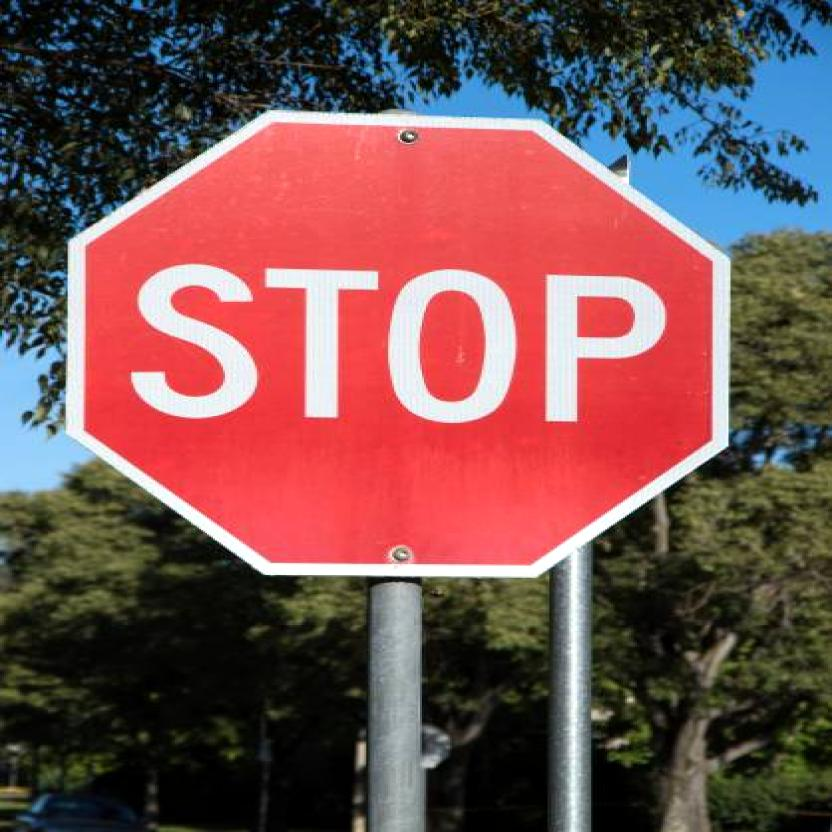Pole: (368, 580, 424, 832), (547, 547, 597, 827)
Sign: (63, 116, 730, 578)
